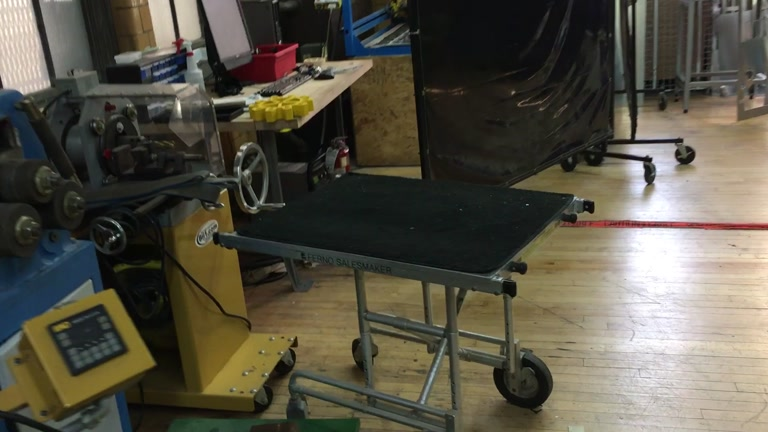gear: (248, 92, 314, 123)
